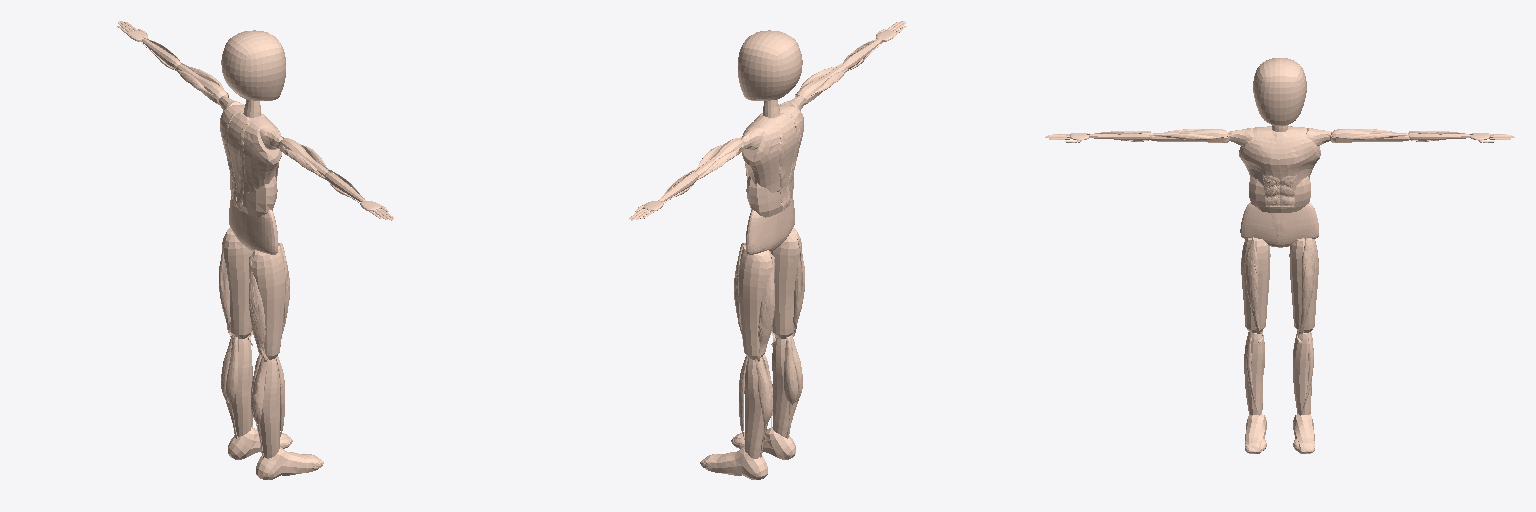
--- What the picture shows (computed from the rendered views, not written in the file) ---
3 views of the same robot in one strip: view 1: azimuth 30°, elevation 25°; view 2: azimuth 150°, elevation 25°; view 3: azimuth 270°, elevation 25° (orthographic).
Model HumanModel with 93 links and 92 joints (44 revolute, 48 fixed), rooted at Pelvis, posed all joints at 0.
Links seen in each view (by area): view 1: Head, RightUpperLeg, UpperTrunk, LeftUpperLeg, RightLowerLeg, LeftLowerLeg, Pelvis, RightFoot, LowerTrunk, RightUpperArm, LeftUpperArm, LeftFoot; view 2: Head, LeftUpperLeg, UpperTrunk, RightUpperLeg, LeftLowerLeg, RightLowerLeg, Pelvis, LeftFoot, LowerTrunk, LeftUpperArm, RightUpperArm, RightFoot; view 3: UpperTrunk, Head, Pelvis, LeftUpperLeg, RightUpperLeg, LowerTrunk, LeftLowerLeg, RightLowerLeg, RightUpperArm, LeftUpperArm, RightFoot, LeftFoot (+2 smaller).
Boxes of the visible links, x1,y1,x2,y2 form: Head: (221,30,285,100); RightUpperLeg: (249,243,289,361); UpperTrunk: (220,105,281,192); LeftUpperLeg: (219,227,252,345); RightLowerLeg: (251,354,284,458); LeftLowerLeg: (221,335,252,438); Pelvis: (229,196,277,254); RightFoot: (256,447,318,479); LowerTrunk: (230,172,277,217); RightUpperArm: (279,137,331,179); LeftUpperArm: (175,63,228,104); LeftFoot: (228,427,292,459); Head: (738,30,802,100); LeftUpperLeg: (734,243,774,361); UpperTrunk: (742,104,803,192); RightUpperLeg: (771,227,804,346); LeftLowerLeg: (739,354,772,458); RightLowerLeg: (771,335,802,438); Pelvis: (746,195,794,254); LeftFoot: (705,447,767,479); LowerTrunk: (746,172,793,217); LeftUpperArm: (692,137,744,179); RightUpperArm: (795,63,848,104); RightFoot: (731,427,795,459); UpperTrunk: (1239,126,1320,186); Head: (1253,58,1306,125); Pelvis: (1240,202,1318,247); LeftUpperLeg: (1289,237,1318,343); RightUpperLeg: (1241,237,1270,344); LowerTrunk: (1249,176,1310,212); LeftLowerLeg: (1293,331,1313,415); RightLowerLeg: (1244,331,1264,415); RightUpperArm: (1149,129,1233,142); LeftUpperArm: (1326,129,1410,142); RightFoot: (1245,414,1266,453); LeftFoot: (1293,414,1314,453).
Bounding box of the posed robot: 0.3279 × 1.94 × 1.76 m (x, y, z).
51 mesh visuals loaded from 51 distinct referenced files (51 Collada DAE).

robot.urdf — HumanModel:
<?xml version='1.0' encoding='UTF-8'?>
<robot name="HumanModel">
  <link name="Pelvis">
    <inertial>
      <origin xyz="0.0 0.0 0.0" rpy="0.0 0.0 0.0"/>
      <mass value="7.098"/>
      <inertia ixx="0.072762100775" ixy="0.0" ixz="0.0" iyy="0.028514890039999997" iyz="0.0" izz="0.080476585735"/>
    </inertial>
    <visual name="Pelvis">
      <geometry>
        <mesh filename="package://human-gazebo/meshes/Pelvis.dae" scale="0.58333333 1.03030303 1.03030303"/>
      </geometry>
      <material name="Link">
        <color rgba="0.9922 0.8667 0.7922 1.    "/>
      </material>
      <origin xyz="0.0 0.0 0.0" rpy="0.0 0.0 0.0"/>
    </visual>
    <visual name="Pelvis_RightRecAbd">
      <geometry>
        <mesh filename="package://human-gazebo/meshes/Pelvis_RightRecAbd.dae" scale="0.58333333 1.03030303 1.03030303"/>
      </geometry>
      <material name="muscle">
        <color rgba="0.9922 0.8667 0.7922 1.    "/>
      </material>
      <origin xyz="0.0 0.0 0.0" rpy="0.0 0.0 0.0"/>
    </visual>
    <visual name="Pelvis_RightErcSpin">
      <geometry>
        <mesh filename="package://human-gazebo/meshes/Pelvis_RightErcSpin.dae" scale="0.58333333 1.03030303 1.03030303"/>
      </geometry>
      <material name="muscle">
        <color rgba="0.9922 0.8667 0.7922 1.    "/>
      </material>
      <origin xyz="0.0 0.0 0.0" rpy="0.0 0.0 0.0"/>
    </visual>
    <visual name="Pelvis_LeftRecAbd">
      <geometry>
        <mesh filename="package://human-gazebo/meshes/Pelvis_LeftRecAbd.dae" scale="0.58333333 1.03030303 1.03030303"/>
      </geometry>
      <material name="muscle">
        <color rgba="0.9922 0.8667 0.7922 1.    "/>
      </material>
      <origin xyz="0.0 0.0 0.0" rpy="0.0 0.0 0.0"/>
    </visual>
    <visual name="Pelvis_LeftErcSpin">
      <geometry>
        <mesh filename="package://human-gazebo/meshes/Pelvis_LeftErcSpin.dae" scale="0.58333333 1.03030303 1.03030303"/>
      </geometry>
      <material name="muscle">
        <color rgba="0.9922 0.8667 0.7922 1.    "/>
      </material>
      <origin xyz="0.0 0.0 0.0" rpy="0.0 0.0 0.0"/>
    </visual>
    <collision>
      <geometry>
        <box size="0.175  0.3247 0.1326"/>
      </geometry>
      <origin xyz="0.0 0.0 0.0" rpy="0.0 0.0 0.0"/>
    </collision>
  </link>
  <link name="LowerTrunk_f1">
    <inertial>
      <origin xyz="0.0 0.0 0.0" rpy="0.0 0.0 0.0"/>
      <mass value="1e-05"/>
      <inertia ixx="0.0" ixy="0.0" ixz="0.0" iyy="0.0" iyz="0.0" izz="0.0"/>
    </inertial>
  </link>
  <link name="LowerTrunk">
    <inertial>
      <origin xyz="0.0 0.0 0.085" rpy="0.0 0.0 0.0"/>
      <mass value="9.294"/>
      <inertia ixx="0.09014997218" ixy="0.0" ixz="0.0" iyy="0.04610211250000001" iyz="0.0" izz="0.09148598468"/>
    </inertial>
    <visual name="LowerTrunk">
      <geometry>
        <mesh filename="package://human-gazebo/meshes/LowerTrunk.dae" scale="0.58333333 1.03030303 1.03030303"/>
      </geometry>
      <material name="Link">
        <color rgba="0.9922 0.8667 0.7922 1.    "/>
      </material>
      <origin xyz="0.0 0.0 0.085" rpy="0.0 0.0 0.0"/>
    </visual>
    <visual name="LowerTrunk_RightRecAbd">
      <geometry>
        <mesh filename="package://human-gazebo/meshes/LowerTrunk_RightRecAbd.dae" scale="0.58333333 1.03030303 1.03030303"/>
      </geometry>
      <material name="muscle">
        <color rgba="0.9922 0.8667 0.7922 1.    "/>
      </material>
      <origin xyz="0.0 0.0 0.085" rpy="0.0 0.0 0.0"/>
    </visual>
    <visual name="LowerTrunk_RightErcSpin">
      <geometry>
        <mesh filename="package://human-gazebo/meshes/LowerTrunk_RightErcSpin.dae" scale="0.58333333 1.03030303 1.03030303"/>
      </geometry>
      <material name="muscle">
        <color rgba="0.9922 0.8667 0.7922 1.    "/>
      </material>
      <origin xyz="0.0 0.0 0.085" rpy="0.0 0.0 0.0"/>
    </visual>
    <visual name="LowerTrunk_LefttRecAbd">
      <geometry>
        <mesh filename="package://human-gazebo/meshes/LowerTrunk_LefttRecAbd.dae" scale="0.58333333 1.03030303 1.03030303"/>
      </geometry>
      <material name="muscle">
        <color rgba="0.9922 0.8667 0.7922 1.    "/>
      </material>
      <origin xyz="0.0 0.0 0.085" rpy="0.0 0.0 0.0"/>
    </visual>
    <visual name="LowerTrunk_LeftErcSpin">
      <geometry>
        <mesh filename="package://human-gazebo/meshes/LowerTrunk_LeftErcSpin.dae" scale="0.58333333 1.03030303 1.03030303"/>
      </geometry>
      <material name="muscle">
        <color rgba="0.9922 0.8667 0.7922 1.    "/>
      </material>
      <origin xyz="0.0 0.0 0.085" rpy="0.0 0.0 0.0"/>
    </visual>
    <collision>
      <geometry>
        <box size="0.175  0.2958 0.17  "/>
      </geometry>
      <origin xyz="0.0 0.0 0.085" rpy="0.0 0.0 0.0"/>
    </collision>
  </link>
  <link name="UpperTrunk_f1">
    <inertial>
      <origin xyz="0.0 0.0 0.0" rpy="0.0 0.0 0.0"/>
      <mass value="1e-05"/>
      <inertia ixx="0.0" ixy="0.0" ixz="0.0" iyy="0.0" iyz="0.0" izz="0.0"/>
    </inertial>
  </link>
  <link name="UpperTrunk_f2">
    <inertial>
      <origin xyz="0.0 0.0 0.0" rpy="0.0 0.0 0.0"/>
      <mass value="1e-05"/>
      <inertia ixx="0.0" ixy="0.0" ixz="0.0" iyy="0.0" iyz="0.0" izz="0.0"/>
    </inertial>
  </link>
  <link name="UpperTrunk">
    <inertial>
      <origin xyz="0.0 0.0 0.0935" rpy="0.0 0.0 0.0"/>
      <mass value="3.138"/>
      <inertia ixx="0.014777222337222225" ixy="0.0" ixz="0.0" iyy="0.017152831" iyz="0.0" izz="0.013641266337222223"/>
    </inertial>
    <visual name="UpperTrunk">
      <geometry>
        <mesh filename="package://human-gazebo/meshes/UpperTrunk.dae" scale="0.58333333 1.03030303 1.03030303"/>
      </geometry>
      <material name="Link">
        <color rgba="0.9922 0.8667 0.7922 1.    "/>
      </material>
      <origin xyz="0.0 0.0 0.0935" rpy="0.0 0.0 0.0"/>
    </visual>
    <visual name="UpperTrunk_RightRecAbd">
      <geometry>
        <mesh filename="package://human-gazebo/meshes/UpperTrunk_RightRecAbd.dae" scale="0.58333333 1.03030303 1.03030303"/>
      </geometry>
      <material name="muscle">
        <color rgba="0.9922 0.8667 0.7922 1.    "/>
      </material>
      <origin xyz="0.0 0.0 0.0935" rpy="0.0 0.0 0.0"/>
    </visual>
    <visual name="UpperTrunk_RightErcSpin">
      <geometry>
        <mesh filename="package://human-gazebo/meshes/UpperTrunk_RightErcSpin.dae" scale="0.58333333 1.03030303 1.03030303"/>
      </geometry>
      <material name="muscle">
        <color rgba="0.9922 0.8667 0.7922 1.    "/>
      </material>
      <origin xyz="0.0 0.0 0.0935" rpy="0.0 0.0 0.0"/>
    </visual>
    <visual name="UpperTrunk_LeftRecAbd">
      <geometry>
        <mesh filename="package://human-gazebo/meshes/UpperTrunk_LeftRecAbd.dae" scale="0.58333333 1.03030303 1.03030303"/>
      </geometry>
      <material name="muscle">
        <color rgba="0.9922 0.8667 0.7922 1.    "/>
      </material>
      <origin xyz="0.0 0.0 0.0935" rpy="0.0 0.0 0.0"/>
    </visual>
    <visual name="UpperTrunk_LeftErcSpin">
      <geometry>
        <mesh filename="package://human-gazebo/meshes/UpperTrunk_LeftErcSpin.dae" scale="0.58333333 1.03030303 1.03030303"/>
      </geometry>
      <material name="muscle">
        <color rgba="0.9922 0.8667 0.7922 1.    "/>
      </material>
      <origin xyz="0.0 0.0 0.0935" rpy="0.0 0.0 0.0"/>
    </visual>
    <collision>
      <geometry>
        <box size="0.175      0.14676667 0.187     "/>
      </geometry>
      <origin xyz="0.0 0.0 0.0935" rpy="0.0 0.0 0.0"/>
    </collision>
  </link>
  <link name="RightShoulder">
    <inertial>
      <origin xyz="0.0 -0.07338333333333334 0.0" rpy="1.5708 0.0 0.0"/>
      <mass value="3.138"/>
      <inertia ixx="0.01" ixy="0.0" ixz="0.0" iyy="0.01" iyz="0.0" izz="0.01"/>
    </inertial>
    <visual name="RightShoulder">
      <geometry>
        <mesh filename="package://human-gazebo/meshes/RightShoulder.dae" scale="0.64444444 0.64444444 1.03030303"/>
      </geometry>
      <material name="Link">
        <color rgba="0.9922 0.8667 0.7922 1.    "/>
      </material>
      <origin xyz="0.0 -0.07338333333333334 0.0" rpy="1.5708 0.0 0.0"/>
    </visual>
    <collision>
      <geometry>
        <cylinder radius="0.029" length="0.14676666666666668"/>
      </geometry>
      <origin xyz="0.0 -0.07338333333333334 0.0" rpy="1.5708 0.0 0.0"/>
    </collision>
  </link>
  <link name="LeftShoulder">
    <inertial>
      <origin xyz="0.0 0.07338333333333334 0.0" rpy="1.5708 0.0 0.0"/>
      <mass value="3.138"/>
      <inertia ixx="0.01" ixy="0.0" ixz="0.0" iyy="0.01" iyz="0.0" izz="0.01"/>
    </inertial>
    <visual name="LeftShoulder">
      <geometry>
        <mesh filename="package://human-gazebo/meshes/LeftShoulder.dae" scale="0.64444444 0.64444444 1.03030303"/>
      </geometry>
      <material name="Link">
        <color rgba="0.9922 0.8667 0.7922 1.    "/>
      </material>
      <origin xyz="0.0 0.07338333333333334 0.0" rpy="1.5708 0.0 0.0"/>
    </visual>
    <collision>
      <geometry>
        <cylinder radius="0.029" length="0.14676666666666668"/>
      </geometry>
      <origin xyz="0.0 0.07338333333333334 0.0" rpy="1.5708 0.0 0.0"/>
    </collision>
  </link>
  <link name="Neck_f1">
    <inertial>
      <origin xyz="0.0 0.0 0.0" rpy="0.0 0.0 0.0"/>
      <mass value="1e-05"/>
      <inertia ixx="0.0" ixy="0.0" ixz="0.0" iyy="0.0" iyz="0.0" izz="0.0"/>
    </inertial>
  </link>
  <link name="Neck_f2">
    <inertial>
      <origin xyz="0.0 0.0 0.0" rpy="0.0 0.0 0.0"/>
      <mass value="1e-05"/>
      <inertia ixx="0.0" ixy="0.0" ixz="0.0" iyy="0.0" iyz="0.0" izz="0.0"/>
    </inertial>
  </link>
  <link name="Neck">
    <inertial>
      <origin xyz="0.0 0.0 0.044199999999999996" rpy="0.0 0.0 0.0"/>
      <mass value="1.1640000000000001"/>
      <inertia ixx="0.01" ixy="0.0" ixz="0.0" iyy="0.01" iyz="0.0" izz="0.01"/>
    </inertial>
    <visual name="Neck">
      <geometry>
        <mesh filename="package://human-gazebo/meshes/Neck.dae" scale="0.73076923 0.73076923 1.03030303"/>
      </geometry>
      <material name="Link">
        <color rgba="0.9922 0.8667 0.7922 1.    "/>
      </material>
      <origin xyz="0.0 0.0 0.044199999999999996" rpy="0.0 0.0 0.0"/>
    </visual>
    <collision>
      <geometry>
        <cylinder radius="0.0475" length="0.08839999999999999"/>
      </geometry>
      <origin xyz="0.0 0.0 0.044199999999999996" rpy="0.0 0.0 0.0"/>
    </collision>
  </link>
  <link name="Head_f1">
    <inertial>
      <origin xyz="0.0 0.0 0.0" rpy="0.0 0.0 0.0"/>
      <mass value="1e-05"/>
      <inertia ixx="0.0" ixy="0.0" ixz="0.0" iyy="0.0" iyz="0.0" izz="0.0"/>
    </inertial>
  </link>
  <link name="Head">
    <inertial>
      <origin xyz="0.0 0.0 0.1105" rpy="0.0 0.0 0.0"/>
      <mass value="2.922"/>
      <inertia ixx="0.014271340200000001" ixy="0.0" ixz="0.0" iyy="0.014271340200000001" iyz="0.0" izz="0.014271340200000001"/>
    </inertial>
    <visual name="Head">
      <geometry>
        <mesh filename="package://human-gazebo/meshes/Head.dae" scale="1.03030303 1.03030303 1.03030303"/>
      </geometry>
      <material name="Link">
        <color rgba="0.9922 0.8667 0.7922 1.    "/>
      </material>
      <origin xyz="0.0 0.0 0.1105" rpy="0.0 0.0 0.0"/>
    </visual>
    <collision>
      <geometry>
        <sphere radius="0.1105"/>
      </geometry>
      <origin xyz="0.0 0.0 0.1105" rpy="0.0 0.0 0.0"/>
    </collision>
  </link>
  <link name="RightShoulder_f1">
    <inertial>
      <origin xyz="0.0 0.0 0.0" rpy="0.0 0.0 0.0"/>
      <mass value="1e-05"/>
      <inertia ixx="0.0" ixy="0.0" ixz="0.0" iyy="0.0" iyz="0.0" izz="0.0"/>
    </inertial>
  </link>
  <link name="RightShoulder_f2">
    <inertial>
      <origin xyz="0.0 0.0 0.0" rpy="0.0 0.0 0.0"/>
      <mass value="1e-05"/>
      <inertia ixx="0.0" ixy="0.0" ixz="0.0" iyy="0.0" iyz="0.0" izz="0.0"/>
    </inertial>
  </link>
  <link name="RightUpperArm">
    <inertial>
      <origin xyz="0.0 -0.1581 0.0" rpy="1.5708 0.0 0.0"/>
      <mass value="1.578"/>
      <inertia ixx="0.013479465359999998" ixy="0.0" ixz="0.0" iyy="0.013479465359999998" iyz="0.0" izz="0.01"/>
    </inertial>
    <visual name="RightUpperArm">
      <geometry>
        <mesh filename="package://human-gazebo/meshes/RightUpperArm.dae" scale="0.64444444 0.64444444 1.03030303"/>
      </geometry>
      <material name="Link">
        <color rgba="0.9922 0.8667 0.7922 1.    "/>
      </material>
      <origin xyz="0.0 -0.1581 0.0" rpy="1.5708 0.0 0.0"/>
    </visual>
    <visual name="RightTricBrac">
      <geometry>
        <mesh filename="package://human-gazebo/meshes/RightTricBrac.dae" scale="0.64444444 0.64444444 1.03030303"/>
      </geometry>
      <material name="muscle">
        <color rgba="0.9922 0.8667 0.7922 1.    "/>
      </material>
      <origin xyz="0.0 -0.1581 0.0" rpy="1.5708 0.0 0.0"/>
    </visual>
    <visual name="RightBicBrac">
      <geometry>
        <mesh filename="package://human-gazebo/meshes/RightBicBrac.dae" scale="0.64444444 0.64444444 1.03030303"/>
      </geometry>
      <material name="muscle">
        <color rgba="0.9922 0.8667 0.7922 1.    "/>
      </material>
      <origin xyz="0.0 -0.1581 0.0" rpy="1.5708 0.0 0.0"/>
    </visual>
    <collision>
      <geometry>
        <cylinder radius="0.029" length="0.3162"/>
      </geometry>
      <origin xyz="0.0 -0.1581 0.0" rpy="1.5708 0.0 0.0"/>
    </collision>
  </link>
  <link name="RightForeArm_f1">
    <inertial>
      <origin xyz="0.0 0.0 0.0" rpy="0.0 0.0 0.0"/>
      <mass value="1e-05"/>
      <inertia ixx="0.0" ixy="0.0" ixz="0.0" iyy="0.0" iyz="0.0" izz="0.0"/>
    </inertial>
  </link>
  <link name="RightForeArm">
    <inertial>
      <origin xyz="0.0 -0.12409999999999999 0.0" rpy="1.5708 0.0 0.0"/>
      <mass value="0.8999999999999999"/>
      <inertia ixx="0.01" ixy="0.0" ixz="0.0" iyy="0.01" iyz="0.0" izz="0.01"/>
    </inertial>
    <visual name="RightForeArm">
      <geometry>
        <mesh filename="package://human-gazebo/meshes/RightForeArm.dae" scale="0.61111111 0.61111111 1.03030303"/>
      </geometry>
      <material name="Link">
        <color rgba="0.9922 0.8667 0.7922 1.    "/>
      </material>
      <origin xyz="0.0 -0.12409999999999999 0.0" rpy="1.5708 0.0 0.0"/>
    </visual>
    <visual name="RightFlexCarp">
      <geometry>
        <mesh filename="package://human-gazebo/meshes/RightFlexCarp.dae" scale="0.61111111 0.61111111 1.03030303"/>
      </geometry>
      <material name="muscle">
        <color rgba="0.9922 0.8667 0.7922 1.    "/>
      </material>
      <origin xyz="0.0 -0.12409999999999999 0.0" rpy="1.5708 0.0 0.0"/>
    </visual>
    <visual name="RightExtCarp">
      <geometry>
        <mesh filename="package://human-gazebo/meshes/RightExtCarp.dae" scale="0.61111111 0.61111111 1.03030303"/>
      </geometry>
      <material name="muscle">
        <color rgba="0.9922 0.8667 0.7922 1.    "/>
      </material>
      <origin xyz="0.0 -0.12409999999999999 0.0" rpy="1.5708 0.0 0.0"/>
    </visual>
    <collision>
      <geometry>
        <cylinder radius="0.0275" length="0.24819999999999998"/>
      </geometry>
      <origin xyz="0.0 -0.12409999999999999 0.0" rpy="1.5708 0.0 0.0"/>
    </collision>
  </link>
  <link name="RightHand_f1">
    <inertial>
      <origin xyz="0.0 0.0 0.0" rpy="0.0 0.0 0.0"/>
      <mass value="1e-05"/>
      <inertia ixx="0.0" ixy="0.0" ixz="0.0" iyy="0.0" iyz="0.0" izz="0.0"/>
    </inertial>
  </link>
  <link name="RightHand">
    <inertial>
      <origin xyz="0.0 -0.09179999999999999 0.0" rpy="0.0 0.0 0.0"/>
      <mass value="0.354"/>
      <inertia ixx="0.01" ixy="0.0" ixz="0.0" iyy="0.01" iyz="0.0" izz="0.01"/>
    </inertial>
    <visual name="RightHand">
      <geometry>
        <mesh filename="package://human-gazebo/meshes/RightHand.dae" scale="0.9        1.03030303 0.55555556"/>
      </geometry>
      <material name="Link">
        <color rgba="0.9922 0.8667 0.7922 1.    "/>
      </material>
      <origin xyz="0.0 -0.09179999999999999 0.0" rpy="0.0 0.0 0.0"/>
    </visual>
    <collision>
      <geometry>
        <box size="0.072  0.1836 0.025 "/>
      </geometry>
      <origin xyz="0.0 -0.09179999999999999 0.0" rpy="0.0 0.0 0.0"/>
    </collision>
  </link>
  <link name="RightHandCOM">
    <inertial>
      <origin xyz="0.0 0.0 0.0" rpy="0.0 0.0 0.0"/>
      <mass value="1e-05"/>
      <inertia ixx="0.0" ixy="0.0" ixz="0.0" iyy="0.0" iyz="0.0" izz="0.0"/>
    </inertial>
    <visual>
      <geometry>
        <box size="0.001 0.001 0.001"/>
      </geometry>
      <origin xyz="0.0 0.0 0.0" rpy="0.0 0.0 0.0"/>
    </visual>
  </link>
  <link name="LeftShoulder_f1">
    <inertial>
      <origin xyz="0.0 0.0 0.0" rpy="0.0 0.0 0.0"/>
      <mass value="1e-05"/>
      <inertia ixx="0.0" ixy="0.0" ixz="0.0" iyy="0.0" iyz="0.0" izz="0.0"/>
    </inertial>
  </link>
  <link name="LeftShoulder_f2">
    <inertial>
      <origin xyz="0.0 0.0 0.0" rpy="0.0 0.0 0.0"/>
      <mass value="1e-05"/>
      <inertia ixx="0.0" ixy="0.0" ixz="0.0" iyy="0.0" iyz="0.0" izz="0.0"/>
    </inertial>
  </link>
  <link name="LeftUpperArm">
    <inertial>
      <origin xyz="0.0 0.1581 0.0" rpy="1.5708 0.0 0.0"/>
      <mass value="1.578"/>
      <inertia ixx="0.013479465359999998" ixy="0.0" ixz="0.0" iyy="0.013479465359999998" iyz="0.0" izz="0.01"/>
    </inertial>
    <visual name="LeftUpperArm">
      <geometry>
        <mesh filename="package://human-gazebo/meshes/LeftUpperArm.dae" scale="0.64444444 0.64444444 1.03030303"/>
      </geometry>
      <material name="Link">
        <color rgba="0.9922 0.8667 0.7922 1.    "/>
      </material>
      <origin xyz="0.0 0.1581 0.0" rpy="1.5708 0.0 0.0"/>
    </visual>
    <visual name="LeftTricBrac">
      <geometry>
        <mesh filename="package://human-gazebo/meshes/LeftTricBrac.dae" scale="0.64444444 0.64444444 1.03030303"/>
      </geometry>
      <material name="muscle">
        <color rgba="0.9922 0.8667 0.7922 1.    "/>
      </material>
      <origin xyz="0.0 0.1581 0.0" rpy="1.5708 0.0 0.0"/>
    </visual>
    <visual name="LeftBicBrac">
      <geometry>
        <mesh filename="package://human-gazebo/meshes/LeftBicBrac.dae" scale="0.64444444 0.64444444 1.03030303"/>
      </geometry>
      <material name="muscle">
        <color rgba="0.9922 0.8667 0.7922 1.    "/>
      </material>
      <origin xyz="0.0 0.1581 0.0" rpy="1.5708 0.0 0.0"/>
    </visual>
    <collision>
      <geometry>
        <cylinder radius="0.029" length="0.3162"/>
      </geometry>
      <origin xyz="0.0 0.1581 0.0" rpy="1.5708 0.0 0.0"/>
    </collision>
  </link>
  <link name="LeftForeArm_f1">
    <inertial>
      <origin xyz="0.0 0.0 0.0" rpy="0.0 0.0 0.0"/>
      <mass value="1e-05"/>
      <inertia ixx="0.0" ixy="0.0" ixz="0.0" iyy="0.0" iyz="0.0" izz="0.0"/>
    </inertial>
  </link>
  <link name="LeftForeArm">
    <inertial>
      <origin xyz="0.0 0.12409999999999999 0.0" rpy="1.5708 0.0 0.0"/>
      <mass value="0.8999999999999999"/>
      <inertia ixx="0.01" ixy="0.0" ixz="0.0" iyy="0.01" iyz="0.0" izz="0.01"/>
    </inertial>
    <visual name="LeftForeArm">
      <geometry>
        <mesh filename="package://human-gazebo/meshes/LeftForeArm.dae" scale="0.61111111 0.61111111 1.03030303"/>
      </geometry>
      <material name="Link">
        <color rgba="0.9922 0.8667 0.7922 1.    "/>
      </material>
      <origin xyz="0.0 0.12409999999999999 0.0" rpy="1.5708 0.0 0.0"/>
    </visual>
    <visual name="LeftFlexCarp">
      <geometry>
        <mesh filename="package://human-gazebo/meshes/LeftFlexCarp.dae" scale="0.61111111 0.61111111 1.03030303"/>
      </geometry>
      <material name="muscle">
        <color rgba="0.9922 0.8667 0.7922 1.    "/>
      </material>
      <origin xyz="0.0 0.12409999999999999 0.0" rpy="1.5708 0.0 0.0"/>
    </visual>
    <visual name="LeftExtCarp">
      <geometry>
        <mesh filename="package://human-gazebo/meshes/LeftExtCarp.dae" scale="0.61111111 0.61111111 1.03030303"/>
      </geometry>
      <material name="muscle">
        <color rgba="0.9922 0.8667 0.7922 1.    "/>
      </material>
      <origin xyz="0.0 0.12409999999999999 0.0" rpy="1.5708 0.0 0.0"/>
    </visual>
    <collision>
      <geometry>
        <cylinder radius="0.0275" length="0.24819999999999998"/>
      </geometry>
      <origin xyz="0.0 0.12409999999999999 0.0" rpy="1.5708 0.0 0.0"/>
    </collision>
  </link>
  <link name="LeftHand_f1">
    <inertial>
      <origin xyz="0.0 0.0 0.0" rpy="0.0 0.0 0.0"/>
      <mass value="1e-05"/>
      <inertia ixx="0.0" ixy="0.0" ixz="0.0" iyy="0.0" iyz="0.0" izz="0.0"/>
    </inertial>
  </link>
  <link name="LeftHand">
    <inertial>
      <origin xyz="0.0 0.09179999999999999 0.0" rpy="0.0 0.0 0.0"/>
      <mass value="0.354"/>
      <inertia ixx="0.01" ixy="0.0" ixz="0.0" iyy="0.01" iyz="0.0" izz="0.01"/>
    </inertial>
    <visual name="LeftHand">
      <geometry>
        <mesh filename="package://human-gazebo/meshes/LeftHand.dae" scale="0.9        1.03030303 0.55555556"/>
      </geometry>
      <material name="Link">
        <color rgba="0.9922 0.8667 0.7922 1.    "/>
      </material>
      <origin xyz="0.0 0.09179999999999999 0.0" rpy="0.0 0.0 0.0"/>
    </visual>
    <collision>
      <geometry>
        <box size="0.072  0.1836 0.025 "/>
      </geometry>
      <origin xyz="0.0 0.09179999999999999 0.0" rpy="0.0 0.0 0.0"/>
    </collision>
  </link>
  <link name="LeftHandCOM">
    <inertial>
      <origin xyz="0.0 0.0 0.0" rpy="0.0 0.0 0.0"/>
      <mass value="1e-05"/>
      <inertia ixx="0.0" ixy="0.0" ixz="0.0" iyy="0.0" iyz="0.0" izz="0.0"/>
    </inertial>
    <visual>
      <geometry>
        <box size="0.001 0.001 0.001"/>
      </geometry>
      <origin xyz="0.0 0.0 0.0" rpy="0.0 0.0 0.0"/>
    </visual>
  </link>
  <link name="RightUpperLeg_f1">
    <inertial>
      <origin xyz="0.0 0.0 0.0" rpy="0.0 0.0 0.0"/>
      <mass value="1e-05"/>
      <inertia ixx="0.0" ixy="0.0" ixz="0.0" iyy="0.0" iyz="0.0" izz="0.0"/>
    </inertial>
  </link>
  <link name="RightUpperLeg_f2">
    <inertial>
      <origin xyz="0.0 0.0 0.0" rpy="0.0 0.0 0.0"/>
      <mass value="1e-05"/>
      <inertia ixx="0.0" ixy="0.0" ixz="0.0" iyy="0.0" iyz="0.0" izz="0.0"/>
    </inertial>
  </link>
  <link name="RightUpperLeg">
    <inertial>
      <origin xyz="0.0 0.0 -0.20825" rpy="0.0 0.0 0.0"/>
      <mass value="8.682"/>
      <inertia ixx="0.1339856885" ixy="0.0" ixz="0.0" iyy="0.1339856885" iyz="0.0" izz="0.01695703125"/>
    </inertial>
    <visual name="RightUpperLeg">
      <geometry>
        <mesh filename="package://human-gazebo/meshes/RightUpperLeg.dae" scale="0.83333333 0.83333333 1.03030303"/>
      </geometry>
      <material name="Link">
        <color rgba="0.9922 0.8667 0.7922 1.    "/>
      </material>
      <origin xyz="0.0 0.0 -0.20825" rpy="0.0 0.0 0.0"/>
    </visual>
    <visual name="RightRecFem">
      <geometry>
        <mesh filename="package://human-gazebo/meshes/RightRecFem.dae" scale="0.83333333 0.83333333 1.03030303"/>
      </geometry>
      <material name="muscle">
        <color rgba="0.9922 0.8667 0.7922 1.    "/>
      </material>
      <origin xyz="0.0 0.0 -0.20825" rpy="0.0 0.0 0.0"/>
    </visual>
    <visual name="RightBicFem">
      <geometry>
        <mesh filename="package://human-gazebo/meshes/RightBicFem.dae" scale="0.83333333 0.83333333 1.03030303"/>
      </geometry>
      <material name="muscle">
        <color rgba="0.9922 0.8667 0.7922 1.    "/>
      </material>
      <origin xyz="0.0 0.0 -0.20825" rpy="0.0 0.0 0.0"/>
    </visual>
    <collision>
      <geometry>
        <cylinder radius="0.0625" length="0.4165"/>
      </geometry>
      <origin xyz="0.0 0.0 -0.20825" rpy="0.0 0.0 0.0"/>
    </collision>
  </link>
  <link name="RightLowerLeg_f1">
    <inertial>
      <origin xyz="0.0 0.0 0.0" rpy="0.0 0.0 0.0"/>
      <mass value="1e-05"/>
      <inertia ixx="0.0" ixy="0.0" ixz="0.0" iyy="0.0" iyz="0.0" izz="0.0"/>
    </inertial>
  </link>
  <link name="RightLowerLeg">
    <inertial>
      <origin xyz="0.0 0.0 -0.20909999999999998" rpy="0.0 0.0 0.0"/>
      <mass value="2.742"/>
      <inertia ixx="0.041350785839999994" ixy="0.0" ixz="0.0" iyy="0.041350785839999994" iyz="0.0" izz="0.01"/>
    </inertial>
    <visual name="RightLowerLeg">
      <geometry>
        <mesh filename="package://human-gazebo/meshes/RightLowerLeg.dae" scale="0.7826087  0.7826087  1.03030303"/>
      </geometry>
      <material name="Link">
        <color rgba="0.9922 0.8667 0.7922 1.    "/>
      </material>
      <origin xyz="0.0 0.0 -0.20909999999999998" rpy="0.0 0.0 0.0"/>
    </visual>
    <visual name="RightTibAnt">
      <geometry>
        <mesh filename="package://human-gazebo/meshes/RightTibAnt.dae" scale="0.7826087  0.7826087  1.03030303"/>
      </geometry>
      <material name="muscle">
        <color rgba="0.9922 0.8667 0.7922 1.    "/>
      </material>
      <origin xyz="0.0 0.0 -0.20909999999999998" rpy="0.0 0.0 0.0"/>
    </visual>
    <visual name="RightGasMed">
      <geometry>
        <mesh filename="package://human-gazebo/meshes/RightGasMed.dae" scale="0.7826087  0.7826087  1.03030303"/>
      </geometry>
      <material name="muscle">
        <color rgba="0.9922 0.8667 0.7922 1.    "/>
      </material>
      <origin xyz="0.0 0.0 -0.20909999999999998" rpy="0.0 0.0 0.0"/>
    </visual>
    <visual name="RightGasLat">
      <geometry>
        <mesh filename="package://human-gazebo/meshes/RightGasLat.dae" scale="0.7826087  0.7826087  1.03030303"/>
      </geometry>
      <material name="muscle">
        <color rgba="0.9922 0.8667 0.7922 1.    "/>
      </material>
      <origin xyz="0.0 0.0 -0.20909999999999998" rpy="0.0 0.0 0.0"/>
    </visual>
    <collision>
      <geometry>
        <cylinder radius="0.045" length="0.41819999999999996"/>
      </geometry>
      <origin xyz="0.0 0.0 -0.20909999999999998" rpy="0.0 0.0 0.0"/>
    </collision>
  </link>
  <link name="RightFoot_f1">
    <inertial>
      <origin xyz="0.0 0.0 0.0" rpy="0.0 0.0 0.0"/>
      <mass value="1e-05"/>
      <inertia ixx="0.0" ixy="0.0" ixz="0.0" iyy="0.0" iyz="0.0" izz="0.0"/>
    </inertial>
  </link>
  <link name="RightFoot_f2">
    <inertial>
      <origin xyz="0.0 0.0 0.0" rpy="0.0 0.0 0.0"/>
      <mass value="1e-05"/>
      <inertia ixx="0.0" ixy="0.0" ixz="0.0" iyy="0.0" iyz="0.0" izz="0.0"/>
    </inertial>
  </link>
  <link name="RightFoot">
    <inertial>
      <origin xyz="0.08419999999999998 0.0 -0.03315" rpy="0.0 0.0 0.0"/>
      <mass value="0.79002"/>
      <inertia ixx="0.01" ixy="0.0" ixz="0.0" iyy="0.01" iyz="0.0" izz="0.01"/>
    </inertial>
    <visual name="RightFoot">
      <geometry>
        <mesh filename="package://human-gazebo/meshes/RightFoot.dae" scale="1.03030303 1.03030303 1.03030303"/>
      </geometry>
      <material name="Link">
        <color rgba="0.9922 0.8667 0.7922 1.    "/>
      </material>
      <origin xyz="0.08419999999999998 0.0 -0.03315" rpy="0.0 0.0 0.0"/>
    </visual>
    <collision>
      <geometry>
        <box size="0.2584 0.0935 0.0663"/>
      </geometry>
      <origin xyz="0.08419999999999998 0.0 -0.03315" rpy="0.0 0.0 0.0"/>
    </collision>
  </link>
  <link name="RightToe">
    <inertial>
      <origin xyz="0.0 0.0 0.0" rpy="0.0 0.0 0.0"/>
      <mass value="0.00798"/>
      <inertia ixx="0.01" ixy="0.0" ixz="0.0" iyy="0.01" iyz="0.0" izz="0.01"/>
    </inertial>
    <visual name="RightToe">
      <geometry>
        <mesh filename="package://human-gazebo/meshes/RightToe.dae" scale="1.03030303 1.03030303 1.03030303"/>
      </geometry>
      <material name="Link">
        <color rgba="0.9922 0.8667 0.7922 1.    "/>
      </material>
      <origin xyz="0.0 0.0 0.0" rpy="0.0 0.0 0.0"/>
    </visual>
    <collision>
      <geometry>
        <box size="0.002584 0.0935   0.0663  "/>
      </geometry>
      <origin xyz="0.0 0.0 0.0" rpy="0.0 0.0 0.0"/>
    </collision>
  </link>
  <link name="RightFTSensor">
    <inertial>
      <origin xyz="0.0 0.0 0.0" rpy="0.0 0.0 0.0"/>
      <mass value="1e-05"/>
      <inertia ixx="0.0" ixy="0.0" ixz="0.0" iyy="0.0" iyz="0.0" izz="0.0"/>
    </inertial>
    <visual>
      <geometry>
        <box size="0.001 0.001 0.001"/>
      </geometry>
      <origin xyz="0.0 0.0 0.0" rpy="0.0 0.0 0.0"/>
    </visual>
  </link>
  <link name="LeftUpperLeg_f1">
    <inertial>
      <origin xyz="0.0 0.0 0.0" rpy="0.0 0.0 0.0"/>
      <mass value="1e-05"/>
      <inertia ixx="0.0" ixy="0.0" ixz="0.0" iyy="0.0" iyz="0.0" izz="0.0"/>
    </inertial>
  </link>
  <link name="LeftUpperLeg_f2">
    <inertial>
      <origin xyz="0.0 0.0 0.0" rpy="0.0 0.0 0.0"/>
      <mass value="1e-05"/>
      <inertia ixx="0.0" ixy="0.0" ixz="0.0" iyy="0.0" iyz="0.0" izz="0.0"/>
    </inertial>
  </link>
  <link name="LeftUpperLeg">
    <inertial>
      <origin xyz="0.0 0.0 -0.20825" rpy="0.0 0.0 0.0"/>
      <mass value="8.682"/>
      <inertia ixx="0.1339856885" ixy="0.0" ixz="0.0" iyy="0.1339856885" iyz="0.0" izz="0.01695703125"/>
    </inertial>
    <visual name="LeftUpperLeg">
      <geometry>
        <mesh filename="package://human-gazebo/meshes/LeftUpperLeg.dae" scale="0.83333333 0.83333333 1.03030303"/>
      </geometry>
      <material name="Link">
        <color rgba="0.9922 0.8667 0.7922 1.    "/>
      </material>
      <origin xyz="0.0 0.0 -0.20825" rpy="0.0 0.0 0.0"/>
    </visual>
    <visual name="LeftRecFem">
      <geometry>
        <mesh filename="package://human-gazebo/meshes/LeftRecFem.dae" scale="0.83333333 0.83333333 1.03030303"/>
      </geometry>
      <material name="muscle">
        <color rgba="0.9922 0.8667 0.7922 1.    "/>
      </material>
      <origin xyz="0.0 0.0 -0.20825" rpy="0.0 0.0 0.0"/>
    </visual>
    <visual name="LeftBicFem">
      <geometry>
        <mesh filename="package://human-gazebo/meshes/LeftBicFem.dae" scale="0.83333333 0.83333333 1.03030303"/>
      </geometry>
      <material name="muscle">
        <color rgba="0.9922 0.8667 0.7922 1.    "/>
      </material>
      <origin xyz="0.0 0.0 -0.20825" rpy="0.0 0.0 0.0"/>
    </visual>
    <collision>
      <geometry>
        <cylinder radius="0.0625" length="0.4165"/>
      </geometry>
      <origin xyz="0.0 0.0 -0.20825" rpy="0.0 0.0 0.0"/>
    </collision>
  </link>
  <link name="LeftLowerLeg_f1">
    <inertial>
      <origin xyz="0.0 0.0 0.0" rpy="0.0 0.0 0.0"/>
      <mass value="1e-05"/>
      <inertia ixx="0.0" ixy="0.0" ixz="0.0" iyy="0.0" iyz="0.0" izz="0.0"/>
    </inertial>
  </link>
  <link name="LeftLowerLeg">
    <inertial>
      <origin xyz="0.0 0.0 -0.20909999999999998" rpy="0.0 0.0 0.0"/>
      <mass value="2.742"/>
      <inertia ixx="0.041350785839999994" ixy="0.0" ixz="0.0" iyy="0.041350785839999994" iyz="0.0" izz="0.01"/>
    </inertial>
    <visual name="LeftLowerLeg">
      <geometry>
        <mesh filename="package://human-gazebo/meshes/LeftLowerLeg.dae" scale="0.7826087  0.7826087  1.03030303"/>
      </geometry>
      <material name="Link">
        <color rgba="0.9922 0.8667 0.7922 1.    "/>
      </material>
      <origin xyz="0.0 0.0 -0.20909999999999998" rpy="0.0 0.0 0.0"/>
    </visual>
    <visual name="LeftTibAnt">
      <geometry>
        <mesh filename="package://human-gazebo/meshes/LeftTibAnt.dae" scale="0.7826087  0.7826087  1.03030303"/>
      </geometry>
      <material name="muscle">
        <color rgba="0.9922 0.8667 0.7922 1.    "/>
      </material>
      <origin xyz="0.0 0.0 -0.20909999999999998" rpy="0.0 0.0 0.0"/>
    </visual>
    <visual name="LeftGasMed">
      <geometry>
        <mesh filename="package://human-gazebo/meshes/LeftGasMed.dae" scale="0.7826087  0.7826087  1.03030303"/>
      </geometry>
      <material name="muscle">
        <color rgba="0.9922 0.8667 0.7922 1.    "/>
      </material>
      <origin xyz="0.0 0.0 -0.20909999999999998" rpy="0.0 0.0 0.0"/>
    </visual>
    <visual name="LeftGasLat">
      <geometry>
        <mesh filename="package://human-gazebo/meshes/LeftGasLat.dae" scale="0.7826087  0.7826087  1.03030303"/>
      </geometry>
      <material name="muscle">
        <color rgba="0.9922 0.8667 0.7922 1.    "/>
      </material>
      <origin xyz="0.0 0.0 -0.20909999999999998" rpy="0.0 0.0 0.0"/>
    </visual>
    <collision>
      <geometry>
        <cylinder radius="0.045" length="0.41819999999999996"/>
      </geometry>
      <origin xyz="0.0 0.0 -0.20909999999999998" rpy="0.0 0.0 0.0"/>
    </collision>
  </link>
  <link name="LeftFoot_f1">
    <inertial>
      <origin xyz="0.0 0.0 0.0" rpy="0.0 0.0 0.0"/>
      <mass value="1e-05"/>
      <inertia ixx="0.0" ixy="0.0" ixz="0.0" iyy="0.0" iyz="0.0" izz="0.0"/>
    </inertial>
  </link>
  <link name="LeftFoot_f2">
    <inertial>
      <origin xyz="0.0 0.0 0.0" rpy="0.0 0.0 0.0"/>
      <mass value="1e-05"/>
      <inertia ixx="0.0" ixy="0.0" ixz="0.0" iyy="0.0" iyz="0.0" izz="0.0"/>
    </inertial>
  </link>
  <link name="LeftFoot">
    <inertial>
      <origin xyz="0.08419999999999998 0.0 -0.03315" rpy="0.0 0.0 0.0"/>
      <mass value="0.79002"/>
      <inertia ixx="0.01" ixy="0.0" ixz="0.0" iyy="0.01" iyz="0.0" izz="0.01"/>
    </inertial>
    <visual name="LeftFoot">
      <geometry>
        <mesh filename="package://human-gazebo/meshes/LeftFoot.dae" scale="1.03030303 1.03030303 1.03030303"/>
      </geometry>
      <material name="Link">
        <color rgba="0.9922 0.8667 0.7922 1.    "/>
      </material>
      <origin xyz="0.08419999999999998 0.0 -0.03315" rpy="0.0 0.0 0.0"/>
    </visual>
    <collision>
      <geometry>
        <box size="0.2584 0.0935 0.0663"/>
      </geometry>
      <origin xyz="0.08419999999999998 0.0 -0.03315" rpy="0.0 0.0 0.0"/>
    </collision>
  </link>
  <link name="LeftToe">
    <inertial>
      <origin xyz="0.0 0.0 0.0" rpy="0.0 0.0 0.0"/>
      <mass value="0.00798"/>
      <inertia ixx="0.01" ixy="0.0" ixz="0.0" iyy="0.01" iyz="0.0" izz="0.01"/>
    </inertial>
    <visual name="LeftToe">
      <geometry>
        <mesh filename="package://human-gazebo/meshes/LeftToe.dae" scale="1.03030303 1.03030303 1.03030303"/>
      </geometry>
      <material name="Link">
        <color rgba="0.9922 0.8667 0.7922 1.    "/>
      </material>
      <origin xyz="0.0 0.0 0.0" rpy="0.0 0.0 0.0"/>
    </visual>
    <collision>
      <geometry>
        <box size="0.002584 0.0935   0.0663  "/>
      </geometry>
      <origin xyz="0.0 0.0 0.0" rpy="0.0 0.0 0.0"/>
    </collision>
  </link>
  <link name="LeftFTSensor">
    <inertial>
      <origin xyz="0.0 0.0 0.0" rpy="0.0 0.0 0.0"/>
      <mass value="1e-05"/>
      <inertia ixx="0.0" ixy="0.0" ixz="0.0" iyy="0.0" iyz="0.0" izz="0.0"/>
    </inertial>
    <visual>
      <geometry>
        <box size="0.001 0.001 0.001"/>
      </geometry>
      <origin xyz="0.0 0.0 0.0" rpy="0.0 0.0 0.0"/>
    </visual>
  </link>
  <link name="BicBrac_RUA">
    <inertial>
      <origin xyz="0.0 0.0 0.0" rpy="0.0 0.0 0.0"/>
      <mass value="0.0"/>
      <inertia ixx="0.0" ixy="0.0" ixz="0.0" iyy="0.0" iyz="0.0" izz="0.0"/>
    </inertial>
  </link>
  <link name="BicBrac_RFA">
    <inertial>
      <origin xyz="0.0 0.0 0.0" rpy="0.0 0.0 0.0"/>
      <mass value="0.0"/>
      <inertia ixx="0.0" ixy="0.0" ixz="0.0" iyy="0.0" iyz="0.0" izz="0.0"/>
    </inertial>
  </link>
  <link name="TricBrac_RUA">
    <inertial>
      <origin xyz="0.0 0.0 0.0" rpy="0.0 0.0 0.0"/>
      <mass value="0.0"/>
      <inertia ixx="0.0" ixy="0.0" ixz="0.0" iyy="0.0" iyz="0.0" izz="0.0"/>
    </inertial>
  </link>
  <link name="TricBrac_RFA">
    <inertial>
      <origin xyz="0.0 0.0 0.0" rpy="0.0 0.0 0.0"/>
      <mass value="0.0"/>
      <inertia ixx="0.0" ixy="0.0" ixz="0.0" iyy="0.0" iyz="0.0" izz="0.0"/>
    </inertial>
  </link>
  <link name="FlexCarp_RFA">
    <inertial>
      <origin xyz="0.0 0.0 0.0" rpy="0.0 0.0 0.0"/>
      <mass value="0.0"/>
      <inertia ixx="0.0" ixy="0.0" ixz="0.0" iyy="0.0" iyz="0.0" izz="0.0"/>
    </inertial>
  </link>
  <link name="FlexCarp_RH">
    <inertial>
      <origin xyz="0.0 0.0 0.0" rpy="0.0 0.0 0.0"/>
      <mass value="0.0"/>
      <inertia ixx="0.0" ixy="0.0" ixz="0.0" iyy="0.0" iyz="0.0" izz="0.0"/>
    </inertial>
  </link>
  <link name="ExtCarp_RFA">
    <inertial>
      <origin xyz="0.0 0.0 0.0" rpy="0.0 0.0 0.0"/>
      <mass value="0.0"/>
      <inertia ixx="0.0" ixy="0.0" ixz="0.0" iyy="0.0" iyz="0.0" izz="0.0"/>
    </inertial>
  </link>
  <link name="ExtCarp_RH">
    <inertial>
      <origin xyz="0.0 0.0 0.0" rpy="0.0 0.0 0.0"/>
      <mass value="0.0"/>
      <inertia ixx="0.0" ixy="0.0" ixz="0.0" iyy="0.0" iyz="0.0" izz="0.0"/>
    </inertial>
  </link>
  <link name="BicBrac_LUA">
    <inertial>
      <origin xyz="0.0 0.0 0.0" rpy="0.0 0.0 0.0"/>
      <mass value="0.0"/>
      <inertia ixx="0.0" ixy="0.0" ixz="0.0" iyy="0.0" iyz="0.0" izz="0.0"/>
    </inertial>
  </link>
  <link name="BicBrac_LFA">
    <inertial>
      <origin xyz="0.0 0.0 0.0" rpy="0.0 0.0 0.0"/>
      <mass value="0.0"/>
      <inertia ixx="0.0" ixy="0.0" ixz="0.0" iyy="0.0" iyz="0.0" izz="0.0"/>
    </inertial>
  </link>
  <link name="TricBrac_LUA">
    <inertial>
      <origin xyz="0.0 0.0 0.0" rpy="0.0 0.0 0.0"/>
      <mass value="0.0"/>
      <inertia ixx="0.0" ixy="0.0" ixz="0.0" iyy="0.0" iyz="0.0" izz="0.0"/>
    </inertial>
  </link>
  <link name="TricBrac_LFA">
    <inertial>
      <origin xyz="0.0 0.0 0.0" rpy="0.0 0.0 0.0"/>
      <mass value="0.0"/>
      <inertia ixx="0.0" ixy="0.0" ixz="0.0" iyy="0.0" iyz="0.0" izz="0.0"/>
    </inertial>
  </link>
  <link name="FlexCarp_LFA">
    <inertial>
      <origin xyz="0.0 0.0 0.0" rpy="0.0 0.0 0.0"/>
      <mass value="0.0"/>
      <inertia ixx="0.0" ixy="0.0" ixz="0.0" iyy="0.0" iyz="0.0" izz="0.0"/>
    </inertial>
  </link>
  <link name="FlexCarp_LH">
    <inertial>
      <origin xyz="0.0 0.0 0.0" rpy="0.0 0.0 0.0"/>
      <mass value="0.0"/>
      <inertia ixx="0.0" ixy="0.0" ixz="0.0" iyy="0.0" iyz="0.0" izz="0.0"/>
    </inertial>
  </link>
  <link name="ExtCarp_LFA">
    <inertial>
      <origin xyz="0.0 0.0 0.0" rpy="0.0 0.0 0.0"/>
      <mass value="0.0"/>
      <inertia ixx="0.0" ixy="0.0" ixz="0.0" iyy="0.0" iyz="0.0" izz="0.0"/>
    </inertial>
  </link>
  <link name="ExtCarp_LH">
    <inertial>
      <origin xyz="0.0 0.0 0.0" rpy="0.0 0.0 0.0"/>
      <mass value="0.0"/>
      <inertia ixx="0.0" ixy="0.0" ixz="0.0" iyy="0.0" iyz="0.0" izz="0.0"/>
    </inertial>
  </link>
  <link name="RecAbd_RUT">
    <inertial>
      <origin xyz="0.0 0.0 0.0" rpy="0.0 0.0 0.0"/>
      <mass value="0.0"/>
      <inertia ixx="0.0" ixy="0.0" ixz="0.0" iyy="0.0" iyz="0.0" izz="0.0"/>
    </inertial>
  </link>
  <link name="RecAbd_RP">
    <inertial>
      <origin xyz="0.0 0.0 0.0" rpy="0.0 0.0 0.0"/>
      <mass value="0.0"/>
      <inertia ixx="0.0" ixy="0.0" ixz="0.0" iyy="0.0" iyz="0.0" izz="0.0"/>
    </inertial>
  </link>
  <link name="ErSpin_RUT">
    <inertial>
      <origin xyz="0.0 0.0 0.0" rpy="0.0 0.0 0.0"/>
      <mass value="0.0"/>
      <inertia ixx="0.0" ixy="0.0" ixz="0.0" iyy="0.0" iyz="0.0" izz="0.0"/>
    </inertial>
  </link>
  <link name="ErSpin_RP">
    <inertial>
      <origin xyz="0.0 0.0 0.0" rpy="0.0 0.0 0.0"/>
      <mass value="0.0"/>
      <inertia ixx="0.0" ixy="0.0" ixz="0.0" iyy="0.0" iyz="0.0" izz="0.0"/>
    </inertial>
  </link>
  <link name="RecAbd_LUT">
    <inertial>
      <origin xyz="0.0 0.0 0.0" rpy="0.0 0.0 0.0"/>
      <mass value="0.0"/>
      <inertia ixx="0.0" ixy="0.0" ixz="0.0" iyy="0.0" iyz="0.0" izz="0.0"/>
    </inertial>
  </link>
  <link name="RecAbd_LP">
    <inertial>
      <origin xyz="0.0 0.0 0.0" rpy="0.0 0.0 0.0"/>
      <mass value="0.0"/>
      <inertia ixx="0.0" ixy="0.0" ixz="0.0" iyy="0.0" iyz="0.0" izz="0.0"/>
    </inertial>
  </link>
  <link name="ErSpin_LUT">
    <inertial>
      <origin xyz="0.0 0.0 0.0" rpy="0.0 0.0 0.0"/>
      <mass value="0.0"/>
      <inertia ixx="0.0" ixy="0.0" ixz="0.0" iyy="0.0" iyz="0.0" izz="0.0"/>
    </inertial>
  </link>
  <link name="ErSpin_LP">
    <inertial>
      <origin xyz="0.0 0.0 0.0" rpy="0.0 0.0 0.0"/>
      <mass value="0.0"/>
      <inertia ixx="0.0" ixy="0.0" ixz="0.0" iyy="0.0" iyz="0.0" izz="0.0"/>
    </inertial>
  </link>
  <link name="RecFem_RLT">
    <inertial>
      <origin xyz="0.0 0.0 0.0" rpy="0.0 0.0 0.0"/>
      <mass value="0.0"/>
      <inertia ixx="0.0" ixy="0.0" ixz="0.0" iyy="0.0" iyz="0.0" izz="0.0"/>
    </inertial>
  </link>
  <link name="RecFem_RLL">
    <inertial>
      <origin xyz="0.0 0.0 0.0" rpy="0.0 0.0 0.0"/>
      <mass value="0.0"/>
      <inertia ixx="0.0" ixy="0.0" ixz="0.0" iyy="0.0" iyz="0.0" izz="0.0"/>
    </inertial>
  </link>
  <link name="BicFem_RUL">
    <inertial>
      <origin xyz="0.0 0.0 0.0" rpy="0.0 0.0 0.0"/>
      <mass value="0.0"/>
      <inertia ixx="0.0" ixy="0.0" ixz="0.0" iyy="0.0" iyz="0.0" izz="0.0"/>
    </inertial>
  </link>
  <link name="BicFem_RLL">
    <inertial>
      <origin xyz="0.0 0.0 0.0" rpy="0.0 0.0 0.0"/>
      <mass value="0.0"/>
      <inertia ixx="0.0" ixy="0.0" ixz="0.0" iyy="0.0" iyz="0.0" izz="0.0"/>
    </inertial>
  </link>
  <link name="RecFem_LLT">
    <inertial>
      <origin xyz="0.0 0.0 0.0" rpy="0.0 0.0 0.0"/>
      <mass value="0.0"/>
      <inertia ixx="0.0" ixy="0.0" ixz="0.0" iyy="0.0" iyz="0.0" izz="0.0"/>
    </inertial>
  </link>
  <link name="RecFem_LLL">
    <inertial>
      <origin xyz="0.0 0.0 0.0" rpy="0.0 0.0 0.0"/>
      <mass value="0.0"/>
      <inertia ixx="0.0" ixy="0.0" ixz="0.0" iyy="0.0" iyz="0.0" izz="0.0"/>
    </inertial>
  </link>
  <link name="BicFem_LUL">
    <inertial>
      <origin xyz="0.0 0.0 0.0" rpy="0.0 0.0 0.0"/>
      <mass value="0.0"/>
      <inertia ixx="0.0" ixy="0.0" ixz="0.0" iyy="0.0" iyz="0.0" izz="0.0"/>
    </inertial>
  </link>
  <link name="BicFem_LLL">
    <inertial>
      <origin xyz="0.0 0.0 0.0" rpy="0.0 0.0 0.0"/>
      <mass value="0.0"/>
      <inertia ixx="0.0" ixy="0.0" ixz="0.0" iyy="0.0" iyz="0.0" izz="0.0"/>
    </inertial>
  </link>
  <link name="TibAnt_RLL">
    <inertial>
      <origin xyz="0.0 0.0 0.0" rpy="0.0 0.0 0.0"/>
      <mass value="0.0"/>
      <inertia ixx="0.0" ixy="0.0" ixz="0.0" iyy="0.0" iyz="0.0" izz="0.0"/>
    </inertial>
  </link>
  <link name="TibAnt_RF">
    <inertial>
      <origin xyz="0.0 0.0 0.0" rpy="0.0 0.0 0.0"/>
      <mass value="0.0"/>
      <inertia ixx="0.0" ixy="0.0" ixz="0.0" iyy="0.0" iyz="0.0" izz="0.0"/>
    </inertial>
  </link>
  <link name="GasLat_RUL">
    <inertial>
      <origin xyz="0.0 0.0 0.0" rpy="0.0 0.0 0.0"/>
      <mass value="0.0"/>
      <inertia ixx="0.0" ixy="0.0" ixz="0.0" iyy="0.0" iyz="0.0" izz="0.0"/>
    </inertial>
  </link>
  <link name="GasLat_RF">
    <inertial>
      <origin xyz="0.0 0.0 0.0" rpy="0.0 0.0 0.0"/>
      <mass value="0.0"/>
      <inertia ixx="0.0" ixy="0.0" ixz="0.0" iyy="0.0" iyz="0.0" izz="0.0"/>
    </inertial>
  </link>
  <link name="GasMed_RUL">
    <inertial>
      <origin xyz="0.0 0.0 0.0" rpy="0.0 0.0 0.0"/>
      <mass value="0.0"/>
      <inertia ixx="0.0" ixy="0.0" ixz="0.0" iyy="0.0" iyz="0.0" izz="0.0"/>
    </inertial>
  </link>
  <link name="GasMed_RF">
    <inertial>
      <origin xyz="0.0 0.0 0.0" rpy="0.0 0.0 0.0"/>
      <mass value="0.0"/>
      <inertia ixx="0.0" ixy="0.0" ixz="0.0" iyy="0.0" iyz="0.0" izz="0.0"/>
    </inertial>
  </link>
  <link name="TibAnt_LLL">
    <inertial>
      <origin xyz="0.0 0.0 0.0" rpy="0.0 0.0 0.0"/>
      <mass value="0.0"/>
      <inertia ixx="0.0" ixy="0.0" ixz="0.0" iyy="0.0" iyz="0.0" izz="0.0"/>
    </inertial>
  </link>
  <link name="TibAnt_LF">
    <inertial>
      <origin xyz="0.0 0.0 0.0" rpy="0.0 0.0 0.0"/>
      <mass value="0.0"/>
      <inertia ixx="0.0" ixy="0.0" ixz="0.0" iyy="0.0" iyz="0.0" izz="0.0"/>
    </inertial>
  </link>
  <link name="GasLat_LUL">
    <inertial>
      <origin xyz="0.0 0.0 0.0" rpy="0.0 0.0 0.0"/>
      <mass value="0.0"/>
      <inertia ixx="0.0" ixy="0.0" ixz="0.0" iyy="0.0" iyz="0.0" izz="0.0"/>
    </inertial>
  </link>
  <link name="GasLat_LF">
    <inertial>
      <origin xyz="0.0 0.0 0.0" rpy="0.0 0.0 0.0"/>
      <mass value="0.0"/>
      <inertia ixx="0.0" ixy="0.0" ixz="0.0" iyy="0.0" iyz="0.0" izz="0.0"/>
    </inertial>
  </link>
  <link name="GasMed_LUL">
    <inertial>
      <origin xyz="0.0 0.0 0.0" rpy="0.0 0.0 0.0"/>
      <mass value="0.0"/>
      <inertia ixx="0.0" ixy="0.0" ixz="0.0" iyy="0.0" iyz="0.0" izz="0.0"/>
    </inertial>
  </link>
  <link name="GasMed_LF">
    <inertial>
      <origin xyz="0.0 0.0 0.0" rpy="0.0 0.0 0.0"/>
      <mass value="0.0"/>
      <inertia ixx="0.0" ixy="0.0" ixz="0.0" iyy="0.0" iyz="0.0" izz="0.0"/>
    </inertial>
  </link>
  <joint name="jL5S1_rotx" type="revolute">
    <dynamics damping="0.1" friction="0.0"/>
    <limit effort="30.0" velocity="1.0" lower="-0.610865" upper="0.610865"/>
    <parent link="Pelvis"/>
    <child link="LowerTrunk_f1"/>
    <axis xyz="1. 0. 0."/>
    <origin xyz="0.0 0.0 0.0663" rpy="0.0 0.0 0.0"/>
  </joint>
  <joint name="jL5S1_roty" type="revolute">
    <dynamics damping="0.1" friction="0.0"/>
    <limit effort="30.0" velocity="1.0" lower="-0.523599" upper="1.309"/>
    <parent link="LowerTrunk_f1"/>
    <child link="LowerTrunk"/>
    <axis xyz="0. 1. 0."/>
    <origin xyz="0.0 0.0 0.0" rpy="0.0 0.0 0.0"/>
  </joint>
  <joint name="jT9T8_rotx" type="revolute">
    <dynamics damping="0.1" friction="0.0"/>
    <limit effort="30.0" velocity="1.0" lower="-0.349066" upper="0.349066"/>
    <parent link="LowerTrunk"/>
    <child link="UpperTrunk_f1"/>
    <axis xyz="1. 0. 0."/>
    <origin xyz="0.0 0.0 0.17" rpy="0.0 0.0 0.0"/>
  </joint>
  <joint name="jT9T8_roty" type="revolute">
    <dynamics damping="0.1" friction="0.0"/>
    <limit effort="30.0" velocity="1.0" lower="-0.261799" upper="0.698132"/>
    <parent link="UpperTrunk_f1"/>
    <child link="UpperTrunk_f2"/>
    <axis xyz="0. 1. 0."/>
    <origin xyz="0.0 0.0 0.0" rpy="0.0 0.0 0.0"/>
  </joint>
  <joint name="jT9T8_rotz" type="revolute">
    <dynamics damping="0.1" friction="0.0"/>
    <limit effort="30.0" velocity="1.0" lower="-0.610865" upper="0.610865"/>
    <parent link="UpperTrunk_f2"/>
    <child link="UpperTrunk"/>
    <axis xyz="0. 0. 1."/>
    <origin xyz="0.0 0.0 0.0" rpy="0.0 0.0 0.0"/>
  </joint>
  <joint name="jC7RightShoulder_rotx" type="revolute">
    <dynamics damping="0.1" friction="0.0"/>
    <limit effort="30.0" velocity="1.0" lower="-0.785398" upper="0.0872665"/>
    <parent link="UpperTrunk"/>
    <child link="RightShoulder"/>
    <axis xyz="1. 0. 0."/>
    <origin xyz="0.0 -0.07338333333333334 0.158" rpy="0.0 0.0 0.0"/>
  </joint>
  <joint name="jC7LeftShoulder_rotx" type="revolute">
    <dynamics damping="0.1" friction="0.0"/>
    <limit effort="30.0" velocity="1.0" lower="-0.0872665" upper="0.785398"/>
    <parent link="UpperTrunk"/>
    <child link="LeftShoulder"/>
    <axis xyz="1. 0. 0."/>
    <origin xyz="0.0 0.07338333333333334 0.158" rpy="0.0 0.0 0.0"/>
  </joint>
  <joint name="jT1C7_rotx" type="revolute">
    <dynamics damping="0.1" friction="0.0"/>
    <limit effort="30.0" velocity="1.0" lower="-0.610865" upper="0.610865"/>
    <parent link="UpperTrunk"/>
    <child link="Neck_f1"/>
    <axis xyz="1. 0. 0."/>
    <origin xyz="0.0 0.0 0.187" rpy="0.0 0.0 0.0"/>
  </joint>
  <joint name="jT1C7_roty" type="revolute">
    <dynamics damping="0.1" friction="0.0"/>
    <limit effort="30.0" velocity="1.0" lower="-0.959931" upper="1.5708"/>
    <parent link="Neck_f1"/>
    <child link="Neck_f2"/>
    <axis xyz="0. 1. 0."/>
    <origin xyz="0.0 0.0 0.0" rpy="0.0 0.0 0.0"/>
  </joint>
  <joint name="jT1C7_rotz" type="revolute">
    <dynamics damping="0.1" friction="0.0"/>
    <limit effort="30.0" velocity="1.0" lower="-1.22173" upper="1.22173"/>
    <parent link="Neck_f2"/>
    <child link="Neck"/>
    <axis xyz="0. 0. 1."/>
    <origin xyz="0.0 0.0 0.0" rpy="0.0 0.0 0.0"/>
  </joint>
  <joint name="jC1Head_rotx" type="revolute">
    <dynamics damping="0.1" friction="0.0"/>
    <limit effort="30.0" velocity="1.0" lower="-0.610865" upper="0.610865"/>
    <parent link="Neck"/>
    <child link="Head_f1"/>
    <axis xyz="1. 0. 0."/>
    <origin xyz="0.0 0.0 0.08839999999999999" rpy="0.0 0.0 0.0"/>
  </joint>
  <joint name="jC1Head_roty" type="revolute">
    <dynamics damping="0.1" friction="0.0"/>
    <limit effort="30.0" velocity="1.0" lower="-0.436332" upper="0.174533"/>
    <parent link="Head_f1"/>
    <child link="Head"/>
    <axis xyz="0. 1. 0."/>
    <origin xyz="0.0 0.0 0.0" rpy="0.0 0.0 0.0"/>
  </joint>
  <joint name="jRightShoulder_rotx" type="revolute">
    <dynamics damping="0.1" friction="0.0"/>
    <limit effort="30.0" velocity="1.0" lower="-2.35619" upper="1.5708"/>
    <parent link="RightShoulder"/>
    <child link="RightShoulder_f1"/>
    <axis xyz="1. 0. 0."/>
    <origin xyz="0.0 -0.14676666666666668 0.0" rpy="0.0 0.0 0.0"/>
  </joint>
  <joint name="jRightShoulder_roty" type="revolute">
    <dynamics damping="0.1" friction="0.0"/>
    <limit effort="30.0" velocity="1.0" lower="-1.5708" upper="1.5708"/>
    <parent link="RightShoulder_f1"/>
    <child link="RightShoulder_f2"/>
    <axis xyz="0. 1. 0."/>
    <origin xyz="0.0 0.0 0.0" rpy="0.0 0.0 0.0"/>
  </joint>
  <joint name="jRightShoulder_rotz" type="revolute">
    <dynamics damping="0.1" friction="0.0"/>
    <limit effort="30.0" velocity="1.0" lower="-0.785398" upper="3.14159"/>
    <parent link="RightShoulder_f2"/>
    <child link="RightUpperArm"/>
    <axis xyz="0. 0. 1."/>
    <origin xyz="0.0 0.0 0.0" rpy="0.0 0.0 0.0"/>
  </joint>
  <joint name="jRightElbow_roty" type="revolute">
    <dynamics damping="0.1" friction="0.0"/>
    <limit effort="30.0" velocity="1.0" lower="-1.5708" upper="1.48353"/>
    <parent link="RightUpperArm"/>
    <child link="RightForeArm_f1"/>
    <axis xyz="0. 1. 0."/>
    <origin xyz="0.0 -0.3162 0.0" rpy="0.0 0.0 0.0"/>
  </joint>
  <joint name="jRightElbow_rotz" type="revolute">
    <dynamics damping="0.1" friction="0.0"/>
    <limit effort="30.0" velocity="1.0" lower="0.0" upper="2.53073"/>
    <parent link="RightForeArm_f1"/>
    <child link="RightForeArm"/>
    <axis xyz="0. 0. 1."/>
    <origin xyz="0.0 0.0 0.0" rpy="0.0 0.0 0.0"/>
  </joint>
  <joint name="jRightWrist_rotx" type="revolute">
    <dynamics damping="0.1" friction="0.0"/>
    <limit effort="30.0" velocity="1.0" lower="-0.872665" upper="1.0472"/>
    <parent link="RightForeArm"/>
    <child link="RightHand_f1"/>
    <axis xyz="1. 0. 0."/>
    <origin xyz="0.0 -0.24819999999999998 0.0" rpy="0.0 0.0 0.0"/>
  </joint>
  <joint name="jRightWrist_rotz" type="revolute">
    <dynamics damping="0.1" friction="0.0"/>
    <limit effort="30.0" velocity="1.0" lower="-0.523599" upper="0.349066"/>
    <parent link="RightHand_f1"/>
    <child link="RightHand"/>
    <axis xyz="0. 0. 1."/>
    <origin xyz="0.0 0.0 0.0" rpy="0.0 0.0 0.0"/>
  </joint>
  <joint name="jRightHandCOM" type="fixed">
    <parent link="RightHand"/>
    <child link="RightHandCOM"/>
    <axis xyz="1. 0. 0."/>
    <origin xyz="0.0 -0.09179999999999999 0.0" rpy="0.0 0.0 0.0"/>
  </joint>
  <joint name="jLeftShoulder_rotx" type="revolute">
    <dynamics damping="0.1" friction="0.0"/>
    <limit effort="30.0" velocity="1.0" lower="-1.5708" upper="2.35619"/>
    <parent link="LeftShoulder"/>
    <child link="LeftShoulder_f1"/>
    <axis xyz="1. 0. 0."/>
    <origin xyz="0.0 0.14676666666666668 0.0" rpy="0.0 0.0 0.0"/>
  </joint>
  <joint name="jLeftShoulder_roty" type="revolute">
    <dynamics damping="0.1" friction="0.0"/>
    <limit effort="30.0" velocity="1.0" lower="-1.5708" upper="1.5708"/>
    <parent link="LeftShoulder_f1"/>
    <child link="LeftShoulder_f2"/>
    <axis xyz="0. 1. 0."/>
    <origin xyz="0.0 0.0 0.0" rpy="0.0 0.0 0.0"/>
  </joint>
  <joint name="jLeftShoulder_rotz" type="revolute">
    <dynamics damping="0.1" friction="0.0"/>
    <limit effort="30.0" velocity="1.0" lower="-3.14159" upper="0.785398"/>
    <parent link="LeftShoulder_f2"/>
    <child link="LeftUpperArm"/>
    <axis xyz="0. 0. 1."/>
    <origin xyz="0.0 0.0 0.0" rpy="0.0 0.0 0.0"/>
  </joint>
  <joint name="jLeftElbow_roty" type="revolute">
    <dynamics damping="0.1" friction="0.0"/>
    <limit effort="30.0" velocity="1.0" lower="-1.5708" upper="1.48353"/>
    <parent link="LeftUpperArm"/>
    <child link="LeftForeArm_f1"/>
    <axis xyz="0. 1. 0."/>
    <origin xyz="0.0 0.3162 0.0" rpy="0.0 0.0 0.0"/>
  </joint>
  <joint name="jLeftElbow_rotz" type="revolute">
    <dynamics damping="0.1" friction="0.0"/>
    <limit effort="30.0" velocity="1.0" lower="-2.53073" upper="0.0"/>
    <parent link="LeftForeArm_f1"/>
    <child link="LeftForeArm"/>
    <axis xyz="0. 0. 1."/>
    <origin xyz="0.0 0.0 0.0" rpy="0.0 0.0 0.0"/>
  </joint>
  <joint name="jLeftWrist_rotx" type="revolute">
    <dynamics damping="0.1" friction="0.0"/>
    <limit effort="30.0" velocity="1.0" lower="-1.0472" upper="0.872665"/>
    <parent link="LeftForeArm"/>
    <child link="LeftHand_f1"/>
    <axis xyz="1. 0. 0."/>
    <origin xyz="0.0 0.24819999999999998 0.0" rpy="0.0 0.0 0.0"/>
  </joint>
  <joint name="jLeftWrist_rotz" type="revolute">
    <dynamics damping="0.1" friction="0.0"/>
    <limit effort="30.0" velocity="1.0" lower="-0.349066" upper="0.523599"/>
    <parent link="LeftHand_f1"/>
    <child link="LeftHand"/>
    <axis xyz="0. 0. 1."/>
    <origin xyz="0.0 0.0 0.0" rpy="0.0 0.0 0.0"/>
  </joint>
  <joint name="jLeftHandCOM" type="fixed">
    <parent link="LeftHand"/>
    <child link="LeftHandCOM"/>
    <axis xyz="1. 0. 0."/>
    <origin xyz="0.0 0.09179999999999999 0.0" rpy="0.0 0.0 0.0"/>
  </joint>
  <joint name="jRightHip_rotx" type="revolute">
    <dynamics damping="0.1" friction="0.0"/>
    <limit effort="30.0" velocity="1.0" lower="-0.785398" upper="0.523599"/>
    <parent link="Pelvis"/>
    <child link="RightUpperLeg_f1"/>
    <axis xyz="1. 0. 0."/>
    <origin xyz="0.0 -0.09985 -0.0663" rpy="0.0 0.0 0.0"/>
  </joint>
  <joint name="jRightHip_roty" type="revolute">
    <dynamics damping="0.1" friction="0.0"/>
    <limit effort="30.0" velocity="1.0" lower="-2.0944" upper="0.261799"/>
    <parent link="RightUpperLeg_f1"/>
    <child link="RightUpperLeg_f2"/>
    <axis xyz="0. 1. 0."/>
    <origin xyz="0.0 0.0 0.0" rpy="0.0 0.0 0.0"/>
  </joint>
  <joint name="jRightHip_rotz" type="revolute">
    <dynamics damping="0.1" friction="0.0"/>
    <limit effort="30.0" velocity="1.0" lower="-0.785398" upper="0.785398"/>
    <parent link="RightUpperLeg_f2"/>
    <child link="RightUpperLeg"/>
    <axis xyz="0. 0. 1."/>
    <origin xyz="0.0 0.0 0.0" rpy="0.0 0.0 0.0"/>
  </joint>
  <joint name="jRightKnee_roty" type="revolute">
    <dynamics damping="0.1" friction="0.0"/>
    <limit effort="30.0" velocity="1.0" lower="0.0" upper="2.35619"/>
    <parent link="RightUpperLeg"/>
    <child link="RightLowerLeg_f1"/>
    <axis xyz="0. 1. 0."/>
    <origin xyz="0.0 0.0 -0.4165" rpy="0.0 0.0 0.0"/>
  </joint>
  <joint name="jRightKnee_rotz" type="revolute">
    <dynamics damping="0.1" friction="0.0"/>
    <limit effort="30.0" velocity="1.0" lower="-0.698132" upper="0.523599"/>
    <parent link="RightLowerLeg_f1"/>
    <child link="RightLowerLeg"/>
    <axis xyz="0. 0. 1."/>
    <origin xyz="0.0 0.0 0.0" rpy="0.0 0.0 0.0"/>
  </joint>
  <joint name="jRightAnkle_rotx" type="revolute">
    <dynamics damping="0.1" friction="0.0"/>
    <limit effort="30.0" velocity="1.0" lower="-0.610865" upper="0.785398"/>
    <parent link="RightLowerLeg"/>
    <child link="RightFoot_f1"/>
    <axis xyz="1. 0. 0."/>
    <origin xyz="0.0 0.0 -0.41819999999999996" rpy="0.0 0.0 0.0"/>
  </joint>
  <joint name="jRightAnkle_roty" type="revolute">
    <dynamics damping="0.1" friction="0.0"/>
    <limit effort="30.0" velocity="1.0" lower="-0.523599" upper="0.872665"/>
    <parent link="RightFoot_f1"/>
    <child link="RightFoot_f2"/>
    <axis xyz="0. 1. 0."/>
    <origin xyz="0.0 0.0 0.0" rpy="0.0 0.0 0.0"/>
  </joint>
  <joint name="jRightAnkle_rotz" type="revolute">
    <dynamics damping="0.1" friction="0.0"/>
    <limit effort="30.0" velocity="1.0" lower="-0.436332" upper="0.872665"/>
    <parent link="RightFoot_f2"/>
    <child link="RightFoot"/>
    <axis xyz="0. 0. 1."/>
    <origin xyz="0.0 0.0 0.0" rpy="0.0 0.0 0.0"/>
  </joint>
  <joint name="jRightBallFoot_roty" type="revolute">
    <dynamics damping="0.1" friction="0.0"/>
    <limit effort="30.0" velocity="1.0" lower="-0.174533" upper="1.5708"/>
    <parent link="RightFoot"/>
    <child link="RightToe"/>
    <axis xyz="0. 1. 0."/>
    <origin xyz="0.21469199999999997 0.0 -0.03315" rpy="0.0 0.0 0.0"/>
  </joint>
  <joint name="jRightBirken_roty" type="fixed">
    <dynamics damping="0.1" friction="0.0"/>
    <limit effort="30.0" velocity="1.0" lower="-0.174533" upper="1.5708"/>
    <parent link="RightFoot"/>
    <child link="RightFTSensor"/>
    <axis xyz="0. 1. 0."/>
    <origin xyz="0.037 0.0 -0.12129999999999999" rpy="0.0 0.0 0.0"/>
  </joint>
  <joint name="jLeftHip_rotx" type="revolute">
    <dynamics damping="0.1" friction="0.0"/>
    <limit effort="30.0" velocity="1.0" lower="-0.523599" upper="0.785398"/>
    <parent link="Pelvis"/>
    <child link="LeftUpperLeg_f1"/>
    <axis xyz="1. 0. 0."/>
    <origin xyz="0.0 0.09985 -0.0663" rpy="0.0 0.0 0.0"/>
  </joint>
  <joint name="jLeftHip_roty" type="revolute">
    <dynamics damping="0.1" friction="0.0"/>
    <limit effort="30.0" velocity="1.0" lower="-2.0944" upper="0.261799"/>
    <parent link="LeftUpperLeg_f1"/>
    <child link="LeftUpperLeg_f2"/>
    <axis xyz="0. 1. 0."/>
    <origin xyz="0.0 0.0 0.0" rpy="0.0 0.0 0.0"/>
  </joint>
  <joint name="jLeftHip_rotz" type="revolute">
    <dynamics damping="0.1" friction="0.0"/>
    <limit effort="30.0" velocity="1.0" lower="-0.785398" upper="0.785398"/>
    <parent link="LeftUpperLeg_f2"/>
    <child link="LeftUpperLeg"/>
    <axis xyz="0. 0. 1."/>
    <origin xyz="0.0 0.0 0.0" rpy="0.0 0.0 0.0"/>
  </joint>
  <joint name="jLeftKnee_roty" type="revolute">
    <dynamics damping="0.1" friction="0.0"/>
    <limit effort="30.0" velocity="1.0" lower="0.0" upper="2.35619"/>
    <parent link="LeftUpperLeg"/>
    <child link="LeftLowerLeg_f1"/>
    <axis xyz="0. 1. 0."/>
    <origin xyz="0.0 0.0 -0.4165" rpy="0.0 0.0 0.0"/>
  </joint>
  <joint name="jLeftKnee_rotz" type="revolute">
    <dynamics damping="0.1" friction="0.0"/>
    <limit effort="30.0" velocity="1.0" lower="-0.523599" upper="0.698132"/>
    <parent link="LeftLowerLeg_f1"/>
    <child link="LeftLowerLeg"/>
    <axis xyz="0. 0. 1."/>
    <origin xyz="0.0 0.0 0.0" rpy="0.0 0.0 0.0"/>
  </joint>
  <joint name="jLeftAnkle_rotx" type="revolute">
    <dynamics damping="0.1" friction="0.0"/>
    <limit effort="30.0" velocity="1.0" lower="-0.785398" upper="0.610865"/>
    <parent link="LeftLowerLeg"/>
    <child link="LeftFoot_f1"/>
    <axis xyz="1. 0. 0."/>
    <origin xyz="0.0 0.0 -0.41819999999999996" rpy="0.0 0.0 0.0"/>
  </joint>
  <joint name="jLeftAnkle_roty" type="revolute">
    <dynamics damping="0.1" friction="0.0"/>
    <limit effort="30.0" velocity="1.0" lower="-0.523599" upper="0.872665"/>
    <parent link="LeftFoot_f1"/>
    <child link="LeftFoot_f2"/>
    <axis xyz="0. 1. 0."/>
    <origin xyz="0.0 0.0 0.0" rpy="0.0 0.0 0.0"/>
  </joint>
  <joint name="jLeftAnkle_rotz" type="revolute">
    <dynamics damping="0.1" friction="0.0"/>
    <limit effort="30.0" velocity="1.0" lower="-0.872665" upper="0.436332"/>
    <parent link="LeftFoot_f2"/>
    <child link="LeftFoot"/>
    <axis xyz="0. 0. 1."/>
    <origin xyz="0.0 0.0 0.0" rpy="0.0 0.0 0.0"/>
  </joint>
  <joint name="jLeftBallFoot_roty" type="revolute">
    <dynamics damping="0.1" friction="0.0"/>
    <limit effort="30.0" velocity="1.0" lower="-0.174533" upper="1.5708"/>
    <parent link="LeftFoot"/>
    <child link="LeftToe"/>
    <axis xyz="0. 1. 0."/>
    <origin xyz="0.21469199999999997 0.0 -0.03315" rpy="0.0 0.0 0.0"/>
  </joint>
  <joint name="jLeftBirken_roty" type="fixed">
    <dynamics damping="0.1" friction="0.0"/>
    <limit effort="30.0" velocity="1.0" lower="-0.174533" upper="1.5708"/>
    <parent link="LeftFoot"/>
    <child link="LeftFTSensor"/>
    <axis xyz="0. 1. 0."/>
    <origin xyz="0.037 0.0 -0.12129999999999999" rpy="0.0 0.0 0.0"/>
  </joint>
  <joint name="jRightBicBrac_RUA" type="fixed">
    <parent link="RightUpperArm"/>
    <child link="BicBrac_RUA"/>
    <axis xyz="1. 0. 0."/>
    <origin xyz="-1.775737858763662e-18 0.0 0.029" rpy="0.0 0.0 0.0"/>
  </joint>
  <joint name="jRightBicBrac_RFA" type="fixed">
    <parent link="RightForeArm"/>
    <child link="BicBrac_RFA"/>
    <axis xyz="1. 0. 0."/>
    <origin xyz="0.0275 0.0 0.0275" rpy="0.0 0.0 0.0"/>
  </joint>
  <joint name="jRightTricBrac_RUA" type="fixed">
    <parent link="RightUpperArm"/>
    <child link="TricBrac_RUA"/>
    <axis xyz="1. 0. 0."/>
    <origin xyz="-0.029 0.0 0.0" rpy="0.0 0.0 0.0"/>
  </joint>
  <joint name="jRightTricBrac_RFA" type="fixed">
    <parent link="RightForeArm"/>
    <child link="TricBrac_RFA"/>
    <axis xyz="1. 0. 0."/>
    <origin xyz="0.0275 0.0 0.0" rpy="0.0 0.0 0.0"/>
  </joint>
  <joint name="jRightFlexCarp_RFA" type="fixed">
    <parent link="RightForeArm"/>
    <child link="FlexCarp_RFA"/>
    <axis xyz="1. 0. 0."/>
    <origin xyz="-0.0275 0.0 0.0" rpy="0.0 0.0 0.0"/>
  </joint>
  <joint name="jRightFlexCarp_RH" type="fixed">
    <parent link="RightHand"/>
    <child link="FlexCarp_RH"/>
    <axis xyz="1. 0. 0."/>
    <origin xyz="0.0144 -0.09179999999999999 0.0125" rpy="0.0 0.0 0.0"/>
  </joint>
  <joint name="jRightExtCarp_RFA" type="fixed">
    <parent link="RightForeArm"/>
    <child link="ExtCarp_RFA"/>
    <axis xyz="1. 0. 0."/>
    <origin xyz="0.0275 0.0 3.367778697655221e-18" rpy="0.0 0.0 0.0"/>
  </joint>
  <joint name="jRightExtCarp_RH" type="fixed">
    <parent link="RightHand"/>
    <child link="ExtCarp_RH"/>
    <axis xyz="1. 0. 0."/>
    <origin xyz="0.0144 -0.09179999999999999 -0.0125" rpy="0.0 0.0 0.0"/>
  </joint>
  <joint name="jLeftBicBrac_LUA" type="fixed">
    <parent link="LeftUpperArm"/>
    <child link="BicBrac_LUA"/>
    <axis xyz="1. 0. 0."/>
    <origin xyz="1.775737858763662e-18 0.0 0.029" rpy="0.0 0.0 0.0"/>
  </joint>
  <joint name="jLeftBicBrac_LFA" type="fixed">
    <parent link="LeftForeArm"/>
    <child link="BicBrac_LFA"/>
    <axis xyz="1. 0. 0."/>
    <origin xyz="0.0275 0.0 0.0" rpy="0.0 0.0 0.0"/>
  </joint>
  <joint name="jLeftTricBrac_LUA" type="fixed">
    <parent link="LeftUpperArm"/>
    <child link="TricBrac_LUA"/>
    <axis xyz="1. 0. 0."/>
    <origin xyz="0.029 0.0 3.551475717527324e-18" rpy="0.0 0.0 0.0"/>
  </joint>
  <joint name="jLeftTricBrac_LFA" type="fixed">
    <parent link="LeftForeArm"/>
    <child link="TricBrac_LFA"/>
    <axis xyz="1. 0. 0."/>
    <origin xyz="0.0275 0.0 3.367778697655221e-18" rpy="0.0 0.0 0.0"/>
  </joint>
  <joint name="jLeftFlexCarp_LFA" type="fixed">
    <parent link="LeftForeArm"/>
    <child link="FlexCarp_LFA"/>
    <axis xyz="1. 0. 0."/>
    <origin xyz="-0.0275 0.0 3.367778697655221e-18" rpy="0.0 0.0 0.0"/>
  </joint>
  <joint name="jLeftFlexCarp_LH" type="fixed">
    <parent link="LeftHand"/>
    <child link="FlexCarp_LH"/>
    <axis xyz="1. 0. 0."/>
    <origin xyz="0.0144 0.09179999999999999 0.0125" rpy="0.0 0.0 0.0"/>
  </joint>
  <joint name="jLeftExtCarp_LFA" type="fixed">
    <parent link="LeftForeArm"/>
    <child link="ExtCarp_LFA"/>
    <axis xyz="1. 0. 0."/>
    <origin xyz="-0.0275 0.0 3.367778697655221e-18" rpy="0.0 0.0 0.0"/>
  </joint>
  <joint name="jLeftExtCarp_LH" type="fixed">
    <parent link="LeftHand"/>
    <child link="ExtCarp_LH"/>
    <axis xyz="1. 0. 0."/>
    <origin xyz="0.0144 0.09179999999999999 -0.025" rpy="0.0 0.0 0.0"/>
  </joint>
  <joint name="jRightRecAbd_RUT" type="fixed">
    <parent link="UpperTrunk"/>
    <child link="RecAbd_RUT"/>
    <axis xyz="1. 0. 0."/>
    <origin xyz="0.0875 -0.07338333333333334 0.0" rpy="0.0 0.0 0.0"/>
  </joint>
  <joint name="jRightRecAbd_RP" type="fixed">
    <parent link="Pelvis"/>
    <child link="RecAbd_RP"/>
    <axis xyz="1. 0. 0."/>
    <origin xyz="0.0875 0.0 0.0" rpy="0.0 0.0 0.0"/>
  </joint>
  <joint name="jRightErSpin_RUT" type="fixed">
    <parent link="UpperTrunk"/>
    <child link="ErSpin_RUT"/>
    <axis xyz="1. 0. 0."/>
    <origin xyz="-0.0875 -0.07338333333333334 0.187" rpy="0.0 0.0 0.0"/>
  </joint>
  <joint name="jRightErSpin_RP" type="fixed">
    <parent link="Pelvis"/>
    <child link="ErSpin_RP"/>
    <axis xyz="1. 0. 0."/>
    <origin xyz="-0.0875 0.0 0.0" rpy="0.0 0.0 0.0"/>
  </joint>
  <joint name="jLeftRecAbd_LUT" type="fixed">
    <parent link="UpperTrunk"/>
    <child link="RecAbd_LUT"/>
    <axis xyz="1. 0. 0."/>
    <origin xyz="0.0875 0.07338333333333334 0.0" rpy="0.0 0.0 0.0"/>
  </joint>
  <joint name="jLeftRecAbd_LP" type="fixed">
    <parent link="Pelvis"/>
    <child link="RecAbd_LP"/>
    <axis xyz="1. 0. 0."/>
    <origin xyz="0.0 0.0 0.0" rpy="0.0 0.0 0.0"/>
  </joint>
  <joint name="jLeftErSpin_LUT" type="fixed">
    <parent link="UpperTrunk"/>
    <child link="ErSpin_LUT"/>
    <axis xyz="1. 0. 0."/>
    <origin xyz="-0.0875 0.07338333333333334 0.187" rpy="0.0 0.0 0.0"/>
  </joint>
  <joint name="jLeftErSpin_LP" type="fixed">
    <parent link="Pelvis"/>
    <child link="ErSpin_LP"/>
    <axis xyz="1. 0. 0."/>
    <origin xyz="-0.0875 0.0 0.0" rpy="0.0 0.0 0.0"/>
  </joint>
  <joint name="jRightRecFem_RP" type="fixed">
    <parent link="Pelvis"/>
    <child link="RecFem_RLT"/>
    <axis xyz="1. 0. 0."/>
    <origin xyz="0.0875 -0.10823333333333333 -0.0663" rpy="0.0 0.0 0.0"/>
  </joint>
  <joint name="jRightRecFem_RLL" type="fixed">
    <parent link="RightLowerLeg"/>
    <child link="RecFem_RLL"/>
    <axis xyz="1. 0. 0."/>
    <origin xyz="0.045 -2.7554552980815448e-18 0.0" rpy="0.0 0.0 0.0"/>
  </joint>
  <joint name="jRightBicFem_RUL" type="fixed">
    <parent link="RightUpperLeg"/>
    <child link="BicFem_RUL"/>
    <axis xyz="1. 0. 0."/>
    <origin xyz="-0.0625 8.266365894244633e-18 0.0" rpy="0.0 0.0 0.0"/>
  </joint>
  <joint name="jRightBicFem_RLL" type="fixed">
    <parent link="RightLowerLeg"/>
    <child link="BicFem_RLL"/>
    <axis xyz="1. 0. 0."/>
    <origin xyz="0.0 -0.045 0.0" rpy="0.0 0.0 0.0"/>
  </joint>
  <joint name="jLeftRecFem_LP" type="fixed">
    <parent link="Pelvis"/>
    <child link="RecFem_LLT"/>
    <axis xyz="1. 0. 0."/>
    <origin xyz="0.0875 0.10823333333333333 -0.0663" rpy="0.0 0.0 0.0"/>
  </joint>
  <joint name="jLeftRecFem_LLL" type="fixed">
    <parent link="LeftLowerLeg"/>
    <child link="RecFem_LLL"/>
    <axis xyz="1. 0. 0."/>
    <origin xyz="0.045 -2.7554552980815448e-18 0.0" rpy="0.0 0.0 0.0"/>
  </joint>
  <joint name="jLeftBicFem_LUL" type="fixed">
    <parent link="LeftUpperLeg"/>
    <child link="BicFem_LUL"/>
    <axis xyz="1. 0. 0."/>
    <origin xyz="-0.0625 8.266365894244633e-18 0.0" rpy="0.0 0.0 0.0"/>
  </joint>
  <joint name="jLeftBicFem_LLL" type="fixed">
    <parent link="LeftLowerLeg"/>
    <child link="BicFem_LLL"/>
    <axis xyz="1. 0. 0."/>
    <origin xyz="5.5109105961630896e-18 0.045 0.0" rpy="0.0 0.0 0.0"/>
  </joint>
  <joint name="jRightTibAnt_RLL" type="fixed">
    <parent link="RightLowerLeg"/>
    <child link="TibAnt_RLL"/>
    <axis xyz="1. 0. 0."/>
    <origin xyz="0.045 -2.7554552980815448e-18 0.0" rpy="0.0 0.0 0.0"/>
  </joint>
  <joint name="jRightTibAnt_RF" type="fixed">
    <parent link="RightFoot"/>
    <child link="TibAnt_RF"/>
    <axis xyz="1. 0. 0."/>
    <origin xyz="0.12919999999999998 0.04675 0.0" rpy="0.0 0.0 0.0"/>
  </joint>
  <joint name="jRightGasLat_RUL" type="fixed">
    <parent link="RightUpperLeg"/>
    <child link="GasLat_RUL"/>
    <axis xyz="1. 0. 0."/>
    <origin xyz="-0.05412658773652741 -0.0225 -0.4165" rpy="0.0 0.0 0.0"/>
  </joint>
  <joint name="jRightGasLat_RF" type="fixed">
    <parent link="RightFoot"/>
    <child link="GasLat_RF"/>
    <axis xyz="1. 0. 0."/>
    <origin xyz="-0.045 0.0 -0.03315" rpy="0.0 0.0 0.0"/>
  </joint>
  <joint name="jRightGasMed_RUL" type="fixed">
    <parent link="RightUpperLeg"/>
    <child link="GasMed_RUL"/>
    <axis xyz="1. 0. 0."/>
    <origin xyz="-0.0541265877365274 0.02250000000000002 -0.4165" rpy="0.0 0.0 0.0"/>
  </joint>
  <joint name="jRightGasMed_RF" type="fixed">
    <parent link="RightFoot"/>
    <child link="GasMed_RF"/>
    <axis xyz="1. 0. 0."/>
    <origin xyz="-0.045 0.0 -0.03315" rpy="0.0 0.0 0.0"/>
  </joint>
  <joint name="jLeftTibAnt_LLL" type="fixed">
    <parent link="LeftLowerLeg"/>
    <child link="TibAnt_LLL"/>
    <axis xyz="1. 0. 0."/>
    <origin xyz="0.045 -2.7554552980815448e-18 0.0" rpy="0.0 0.0 0.0"/>
  </joint>
  <joint name="jLeftTibAnt_LF" type="fixed">
    <parent link="LeftFoot"/>
    <child link="TibAnt_LF"/>
    <axis xyz="1. 0. 0."/>
    <origin xyz="0.12919999999999998 -0.04675 0.0" rpy="0.0 0.0 0.0"/>
  </joint>
  <joint name="jLeftGasLat_LUL" type="fixed">
    <parent link="LeftUpperLeg"/>
    <child link="GasLat_LUL"/>
    <axis xyz="1. 0. 0."/>
    <origin xyz="-0.0541265877365274 0.02250000000000002 -0.4165" rpy="0.0 0.0 0.0"/>
  </joint>
  <joint name="jLeftGasLat_LF" type="fixed">
    <parent link="LeftFoot"/>
    <child link="GasLat_LF"/>
    <axis xyz="1. 0. 0."/>
    <origin xyz="-0.045 0.0 -0.03315" rpy="0.0 0.0 0.0"/>
  </joint>
  <joint name="jLeftGasMed_LUL" type="fixed">
    <parent link="LeftUpperLeg"/>
    <child link="GasMed_LUL"/>
    <axis xyz="1. 0. 0."/>
    <origin xyz="-0.05412658773652741 -0.0225 -0.4165" rpy="0.0 0.0 0.0"/>
  </joint>
  <joint name="jLeftGasMed_LF" type="fixed">
    <parent link="LeftFoot"/>
    <child link="GasMed_LF"/>
    <axis xyz="1. 0. 0."/>
    <origin xyz="-0.045 0.0 -0.03315" rpy="0.0 0.0 0.0"/>
  </joint>
</robot>
